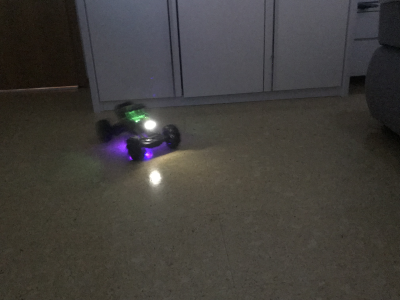remote control car: (93, 98, 183, 164)
